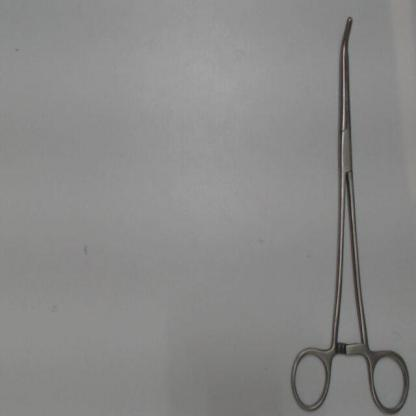Lahey Forceps: (288, 11, 413, 416)
